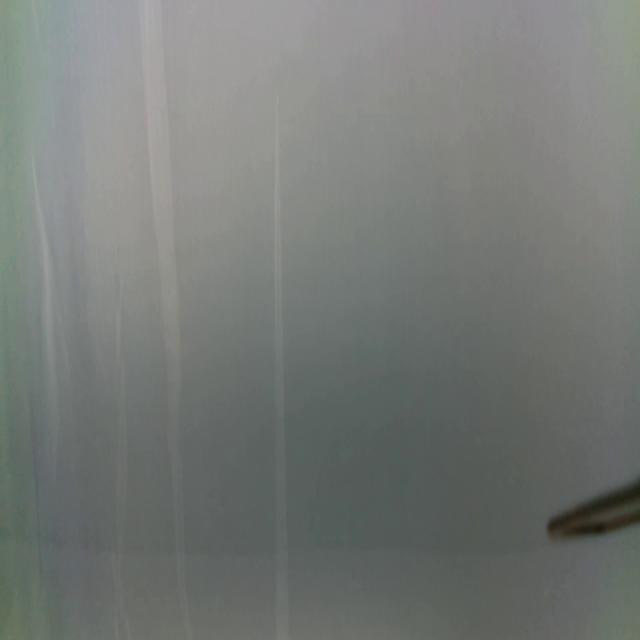crease: (142, 3, 192, 640), (273, 96, 290, 639), (28, 403, 44, 597)
